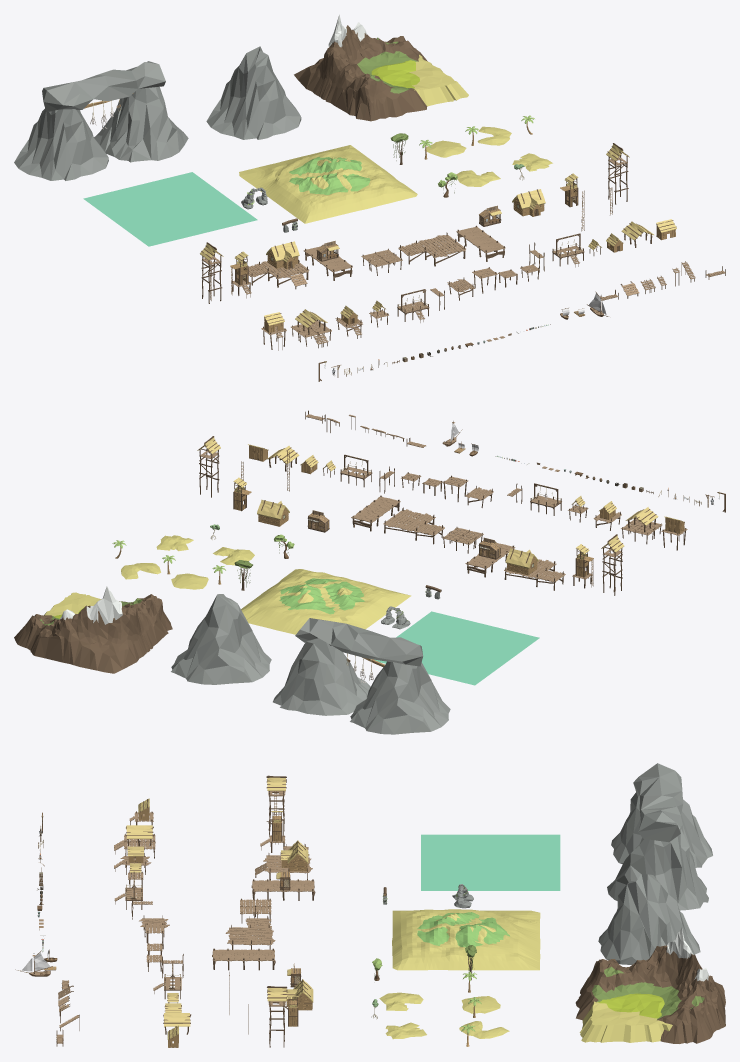
Rendered from Asset Overview.fbx.
3 views of the same model, one above another, from view 1: azimuth 30°, elevation 25°; view 2: azimuth 150°, elevation 25°; view 3: azimuth 270°, elevation 25° (orthographic). The views are drawn at different scales.
Visible parts, largest first — view 1: Big_Rock_1, Land_1, Land_6, Water, Big_Rock_2, Platform_4_2, Platform_7_2, Platform_4, Hut_2, Hut_2_2, Tower, Tower_2 (+1 smaller); view 2: Big_Rock_1, Land_1, Land_6, Water, Big_Rock_2, Platform_4_2, Platform_7_2, Platform_4, Hut_2, Hut_2_2, Tower, Tower_2 (+1 smaller); view 3: Land_1, Big_Rock_1, Land_6, Water, Big_Rock_2, Platform_4_2, Platform_7_2, Platform_7, Hut_2, Tower_2, Tower, Hut_2_2 (+6 smaller).
Part boxes in pixels (<box>): Big_Rock_1: <box>14,61,188,180</box>; Land_1: <box>294,14,468,121</box>; Land_6: <box>239,145,417,223</box>; Water: <box>83,172,257,246</box>; Big_Rock_2: <box>206,46,301,139</box>; Platform_4_2: <box>398,232,465,266</box>; Platform_7_2: <box>456,225,505,261</box>; Platform_4: <box>248,260,309,287</box>; Hut_2: <box>266,241,299,269</box>; Hut_2_2: <box>512,189,545,216</box>; Tower: <box>200,242,223,303</box>; Tower_2: <box>606,143,629,204</box>; Big_Rock_1: <box>273,618,450,734</box>; Land_1: <box>14,586,172,673</box>; Land_6: <box>241,569,411,634</box>; Water: <box>374,611,539,685</box>; Big_Rock_2: <box>171,594,271,684</box>; Platform_4_2: <box>383,507,444,544</box>; Platform_7_2: <box>351,495,400,531</box>; Platform_4: <box>504,559,565,590</box>; Hut_2: <box>505,548,538,575</box>; Hut_2_2: <box>257,499,289,526</box>; Tower: <box>601,534,624,595</box>; Tower_2: <box>197,436,220,497</box>; Land_1: <box>575,927,725,1043</box>; Big_Rock_1: <box>607,763,712,910</box>; Land_6: <box>392,909,540,970</box>; Water: <box>421,834,560,890</box>; Big_Rock_2: <box>598,874,700,964</box>; Platform_4_2: <box>225,916,275,949</box>; Platform_7_2: <box>212,948,275,970</box>; Platform_7: <box>251,879,315,900</box>; Hut_2: <box>280,840,308,871</box>; Tower_2: <box>267,986,287,1047</box>; Tower: <box>266,775,286,836</box>; Hut_2_2: <box>286,979,313,1010</box>.
Size of the model in its own units: 10131 by 1754 by 13868.
Materials: 1 (1 with a texture image).
